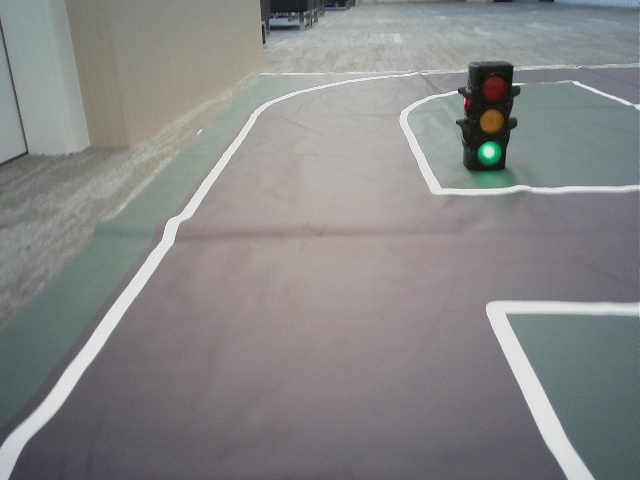green: (471, 68, 512, 167)
